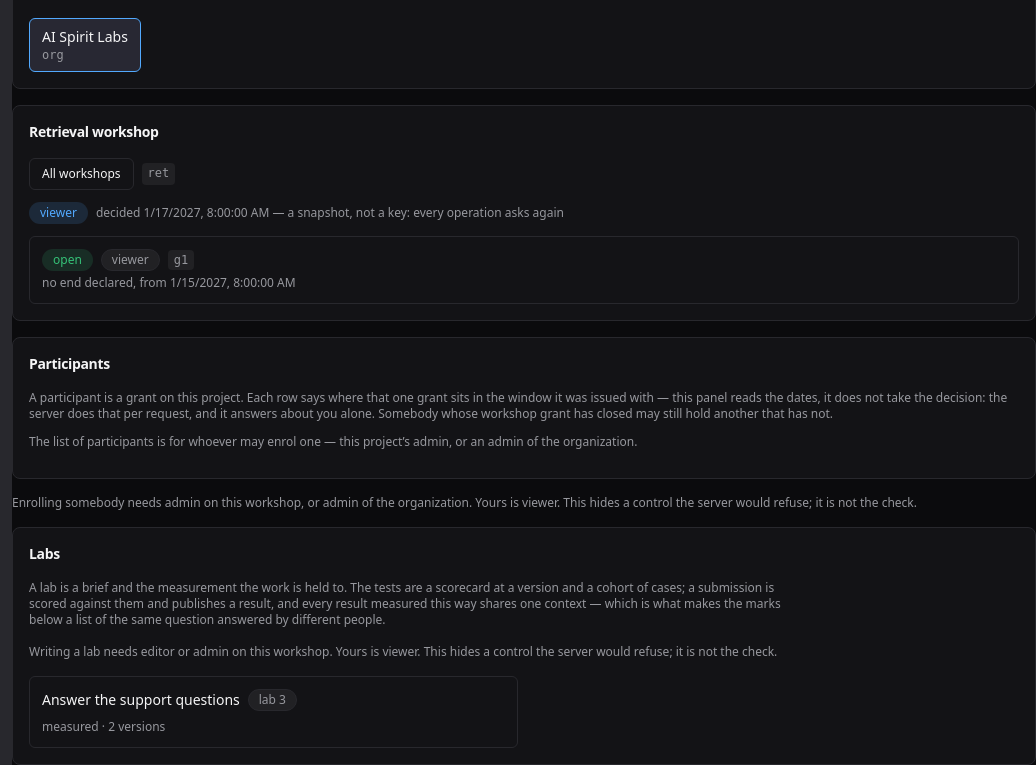
Test: reads a lab's tests and marks from the server, and computes no context id
The width and height of the screenshot is (1036, 765).
(page scrolled)
Click the button "Answer the support questions lab 3 measured · 2 versions" at [274, 712], box [29,676,518,748]
(page scrolled)
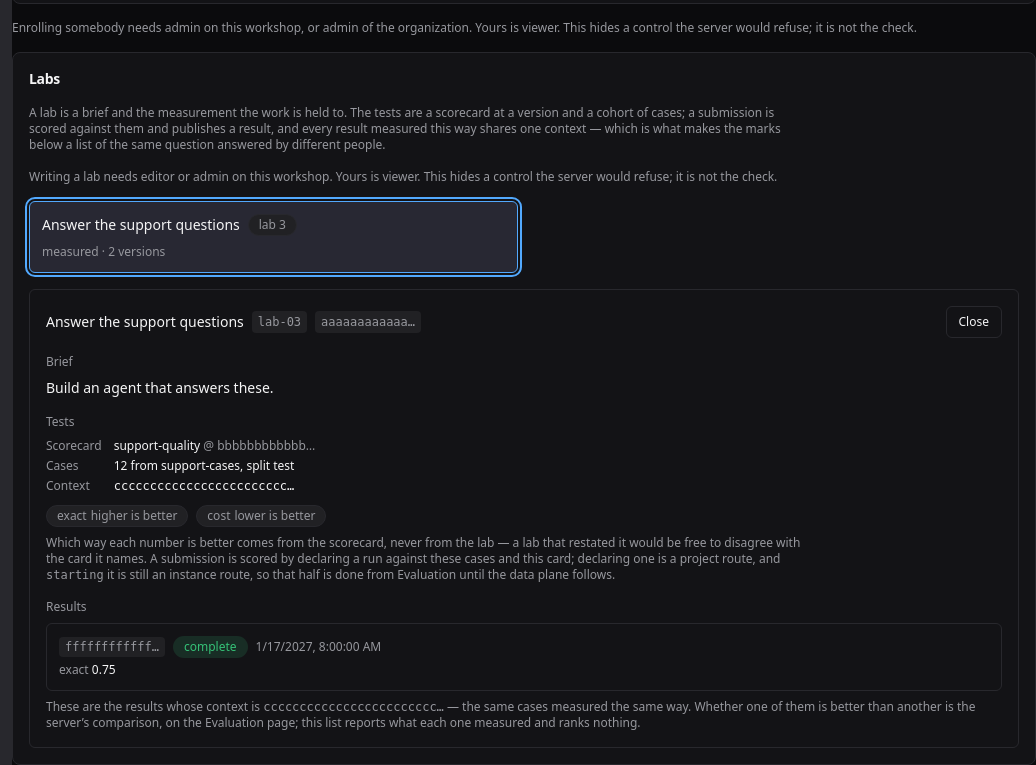
Expected: the text "Build an agent that answers these." is shown, [46,378,274,397]
Expected: the text "support-quality" is shown, [114,437,200,454]
Expected: the text "12 from support-cases, split test" is shown, [114,457,294,474]
